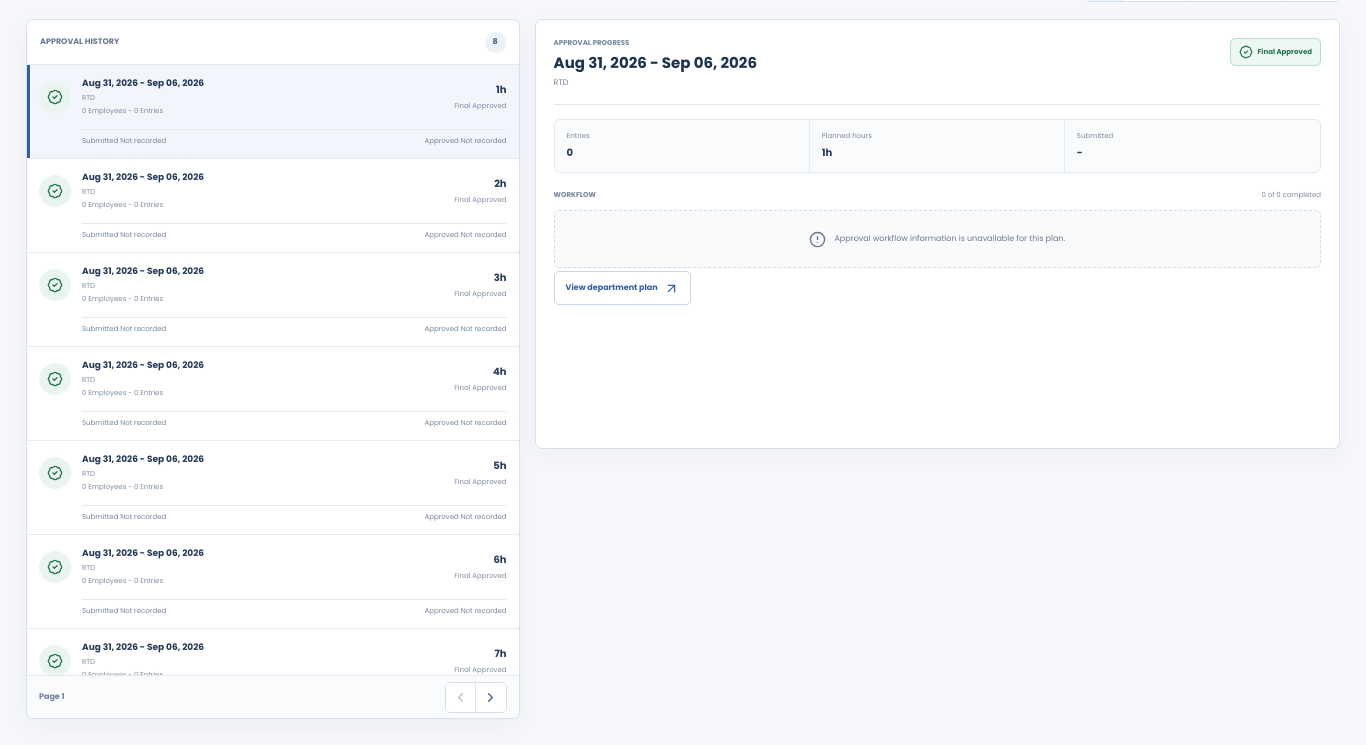
Scenario: SupervisorApprovalsPage › paginates approval history through backend limit and offset parameters
The width and height of the screenshot is (1366, 745).
(page scrolled)
What coordinates should you click on to do the following:
click the button named "Next approval history page"
I would click on:
 (491, 697)
Its box is [476,682,506,712].
(page scrolled)
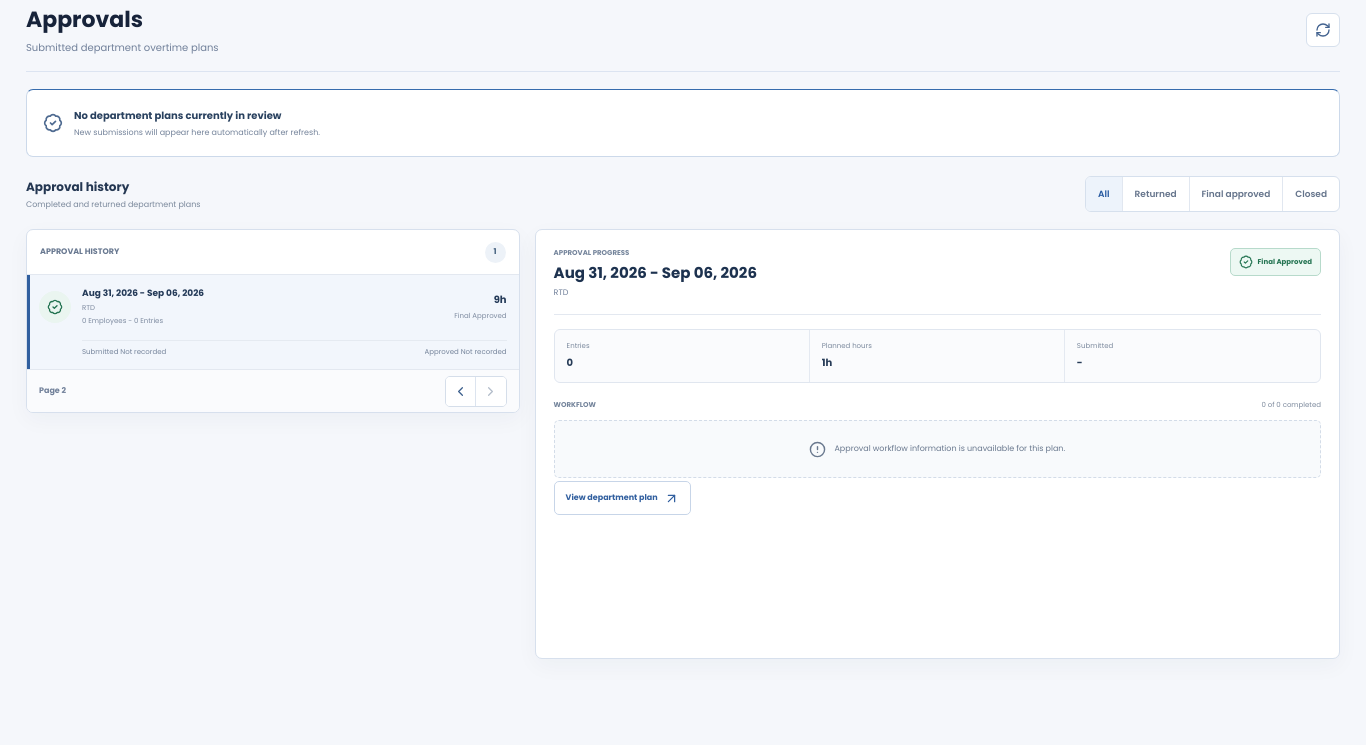
expect the text "Page 2" is shown: met, box [39,385,66,397]
